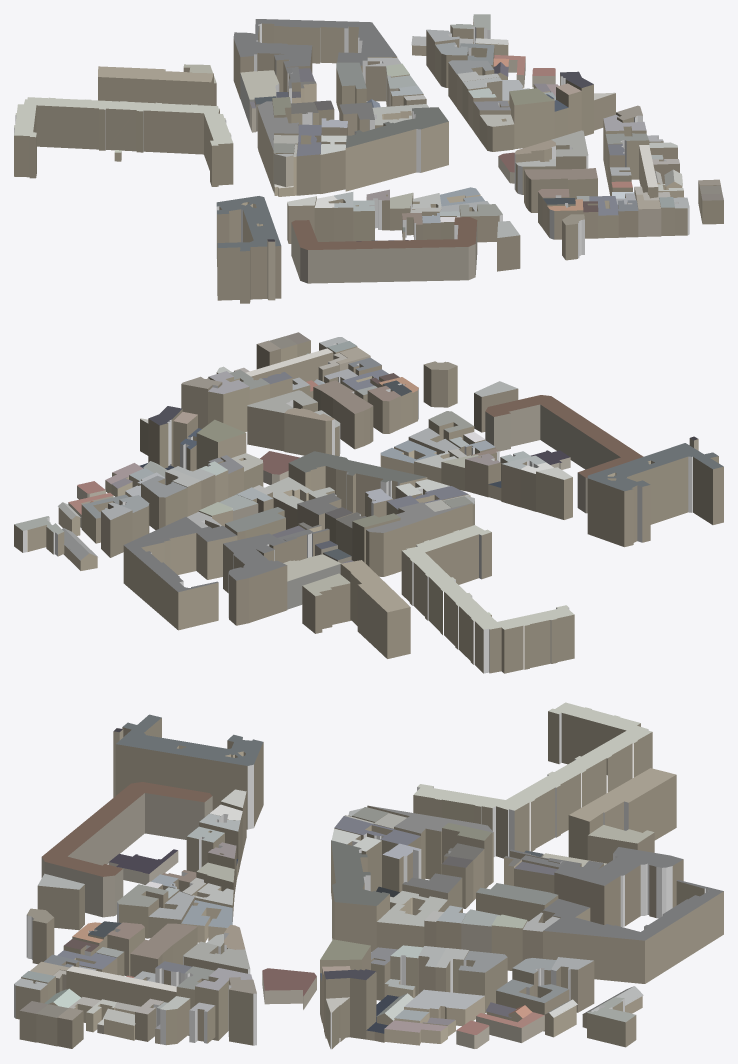
3 renders of one model, top to bottom at view 1: azimuth 30°, elevation 25°; view 2: azimuth 150°, elevation 25°; view 3: azimuth 270°, elevation 25°, orthographic. The views are drawn at different scales.
Parts seen in each view (by area): view 1: tuile; view 2: tuile; view 3: tuile.
Boxes of the visible parts, x1,y1,x2,y2 form: tuile: [14, 14, 723, 303]; tuile: [14, 332, 723, 673]; tuile: [14, 702, 723, 1049].
Bounding box in the file's own units: 294 × 34.01 × 295.
